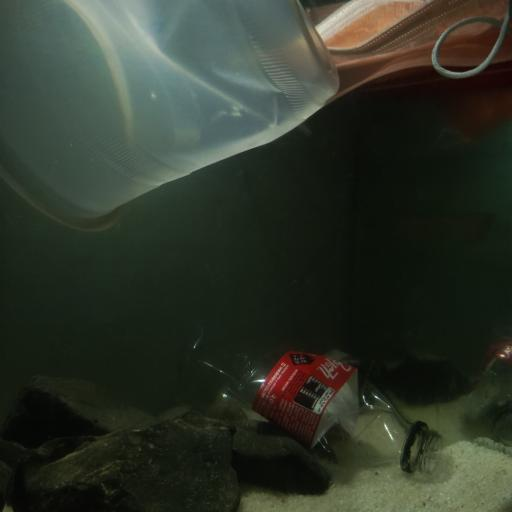mask: (315, 0, 511, 138)
plastic_bottle: (179, 326, 446, 475)
plastic_cup: (0, 0, 340, 227)
